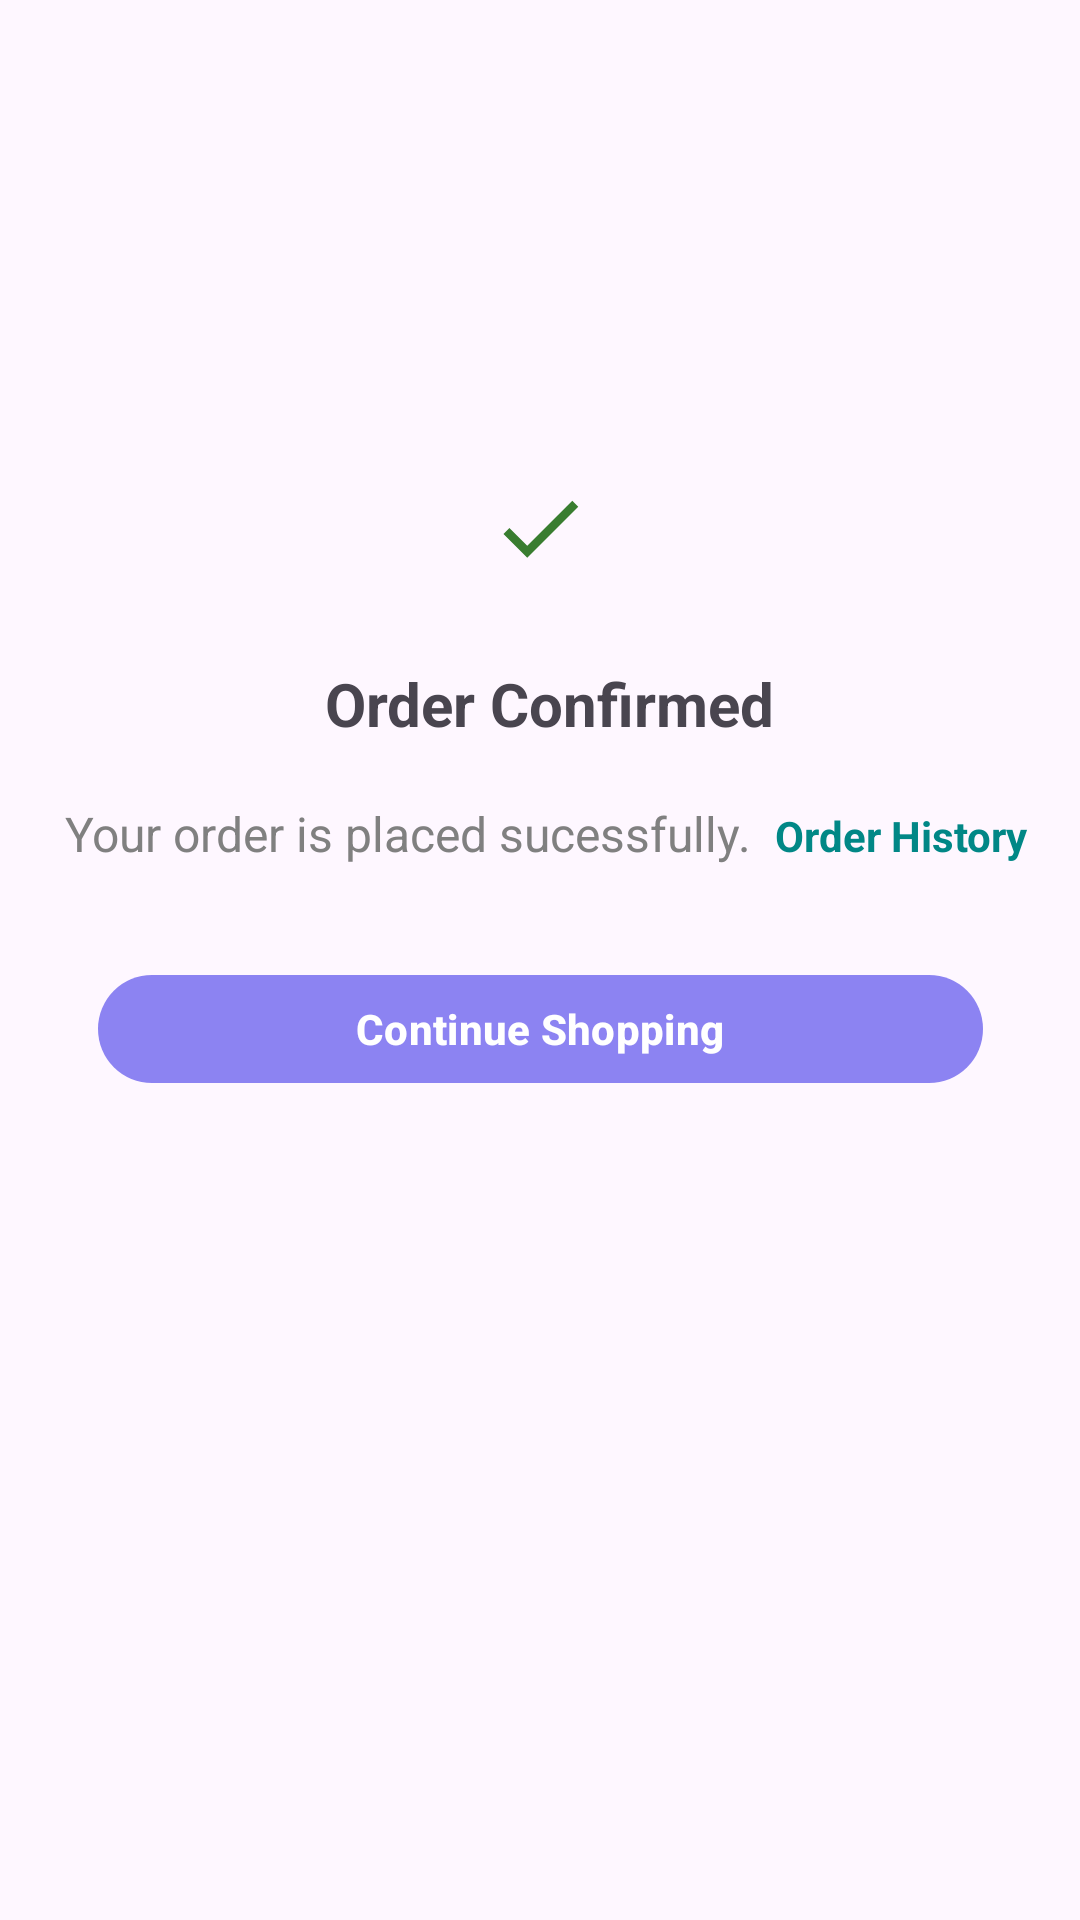

Where icons sit on this 1080px x 1920px app screen, as (x1, y1, x2, y2):
done: (503, 501, 578, 558)
